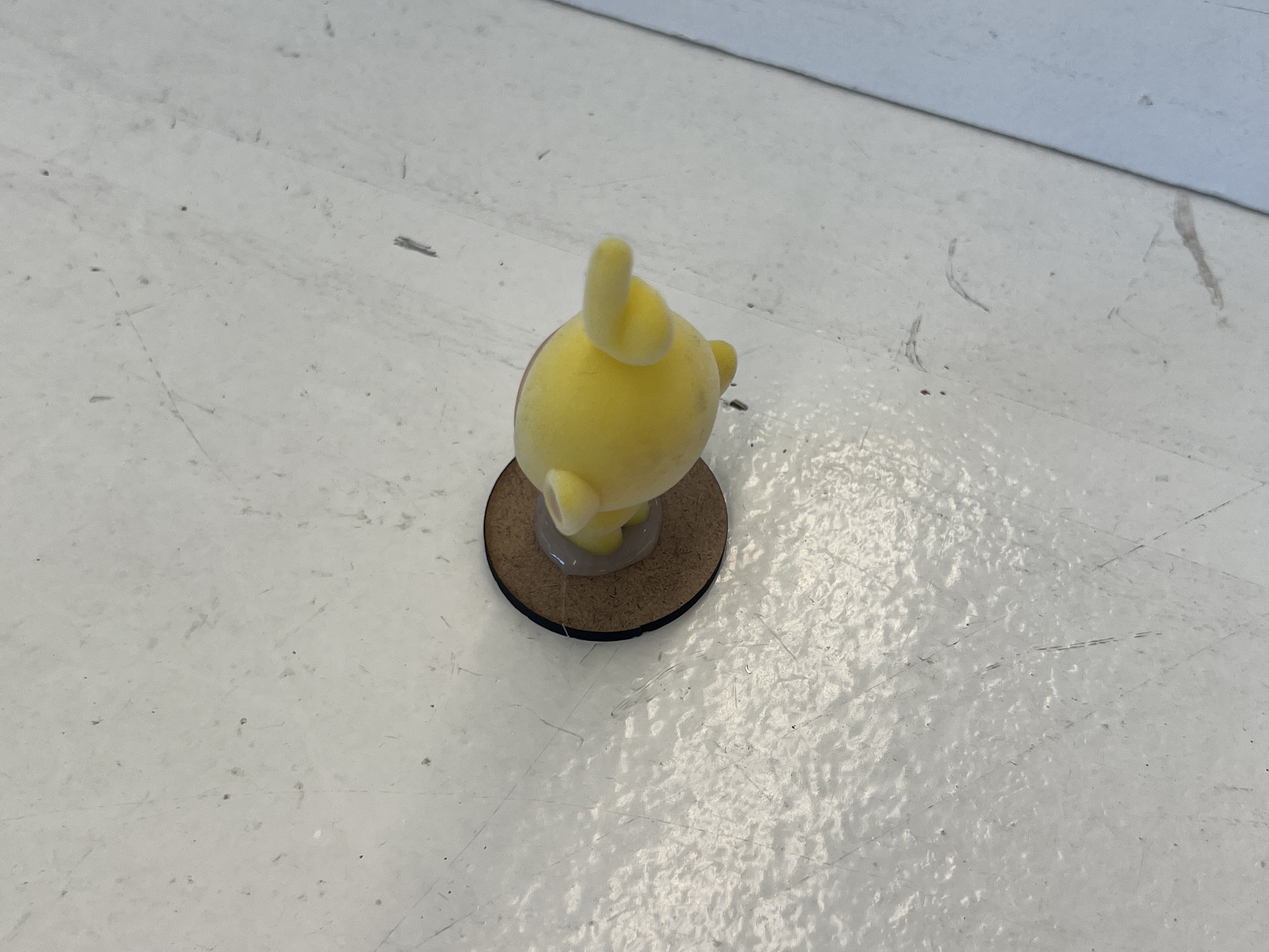teletubby: (515, 238, 736, 553)
